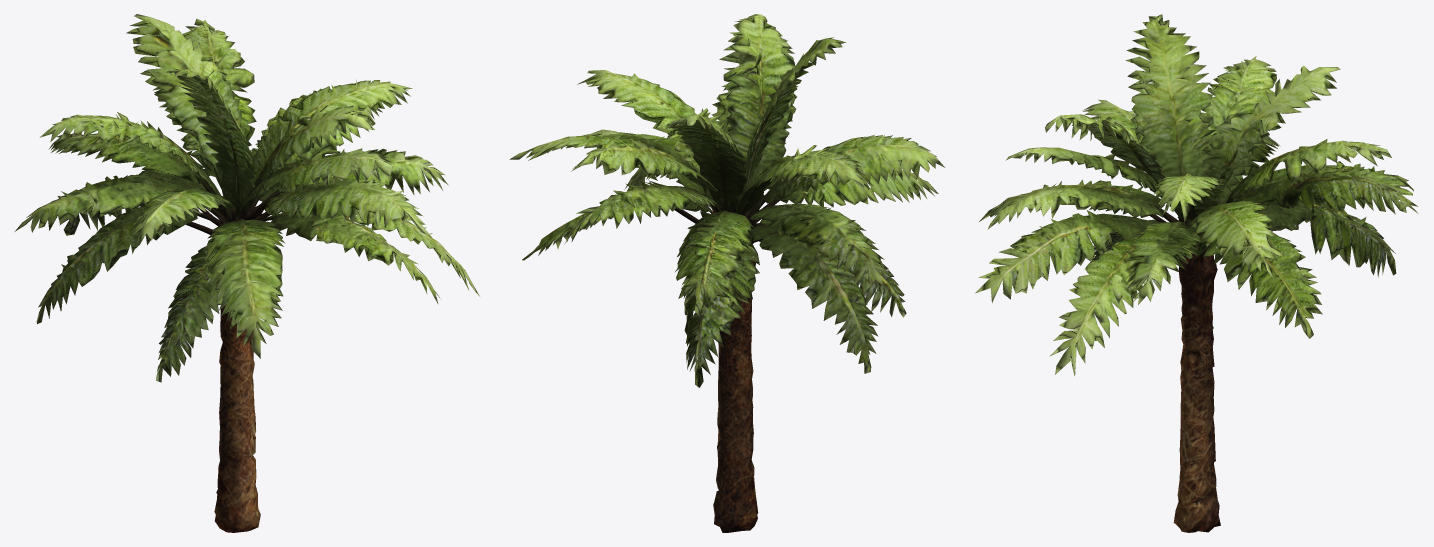
Rendered from tree_fern.fbx.
The picture shows the model from 3 angles, left to right: view 1: azimuth 30°, elevation 25°; view 2: azimuth 150°, elevation 25°; view 3: azimuth 270°, elevation 25°; orthographic projection. The views are drawn at different scales.
Visible parts, largest first — view 1: tree_fern; view 2: tree_fern; view 3: tree_fern.
Part boxes in pixels (x1,y1,x2,y2): tree_fern: (14,14,479,532); tree_fern: (509,14,945,532); tree_fern: (975,14,1418,532).
Bounding box in the file's own units: 3.19 × 4 × 3.41.
1 material, 1 textured.
